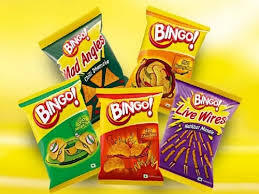VEG: (90, 162, 95, 169), (143, 174, 148, 178)
